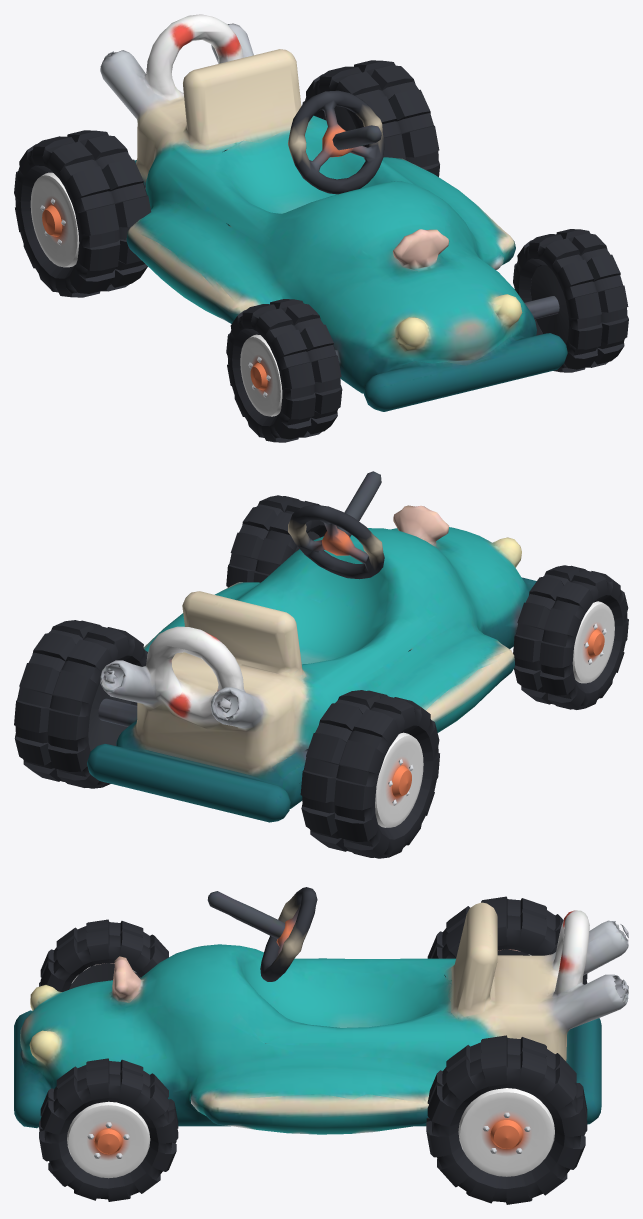
Rendered from kart.otter.glb.
3 views of the same model, one above another, from view 1: azimuth 30°, elevation 25°; view 2: azimuth 150°, elevation 25°; view 3: azimuth 270°, elevation 25° (orthographic).
Parts seen in each view (by area): view 1: body, wheel_rr, wheel_fr, wheel_fl, wheel_rl, steering; view 2: body, wheel_rr, wheel_rl, wheel_fr, wheel_fl, steering; view 3: body, wheel_rl, wheel_fl, wheel_fr, wheel_rr, steering.
Boxes of the visible parts, x1=… form: body: x1=100, y1=14, x2=567, y2=411; wheel_rr: x1=14, y1=130, x2=151, y2=297; wheel_fr: x1=226, y1=299, x2=342, y2=442; wheel_fl: x1=513, y1=229, x2=628, y2=372; wheel_rl: x1=302, y1=60, x2=439, y2=176; steering: x1=287, y1=90, x2=384, y2=194; body: x1=87, y1=471, x2=536, y2=822; wheel_rr: x1=300, y1=690, x2=439, y2=858; wheel_rl: x1=14, y1=620, x2=147, y2=788; wheel_fr: x1=513, y1=565, x2=628, y2=709; wheel_fl: x1=226, y1=495, x2=326, y2=587; steering: x1=288, y1=504, x2=384, y2=579; body: x1=14, y1=891, x2=628, y2=1134; wheel_rl: x1=426, y1=1035, x2=587, y2=1204; wheel_fl: x1=39, y1=1058, x2=178, y2=1201; wheel_fr: x1=39, y1=919, x2=168, y2=991; wheel_rr: x1=427, y1=896, x2=587, y2=984; steering: x1=260, y1=887, x2=317, y2=981.
Bounding box in the file's own units: 1.31 × 0.8087 × 1.95.
Materials: 3 (1 with a texture image).
